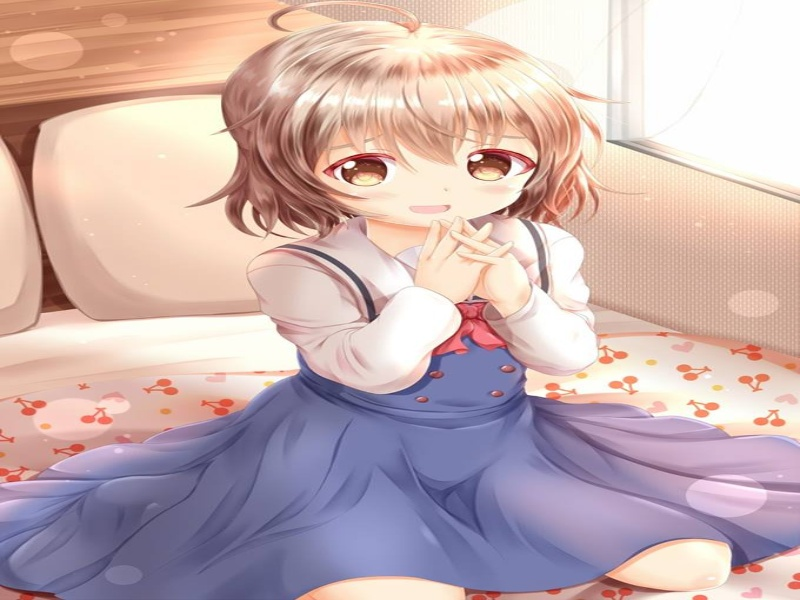dress: (40, 299, 797, 600)
person: (198, 20, 621, 243)
